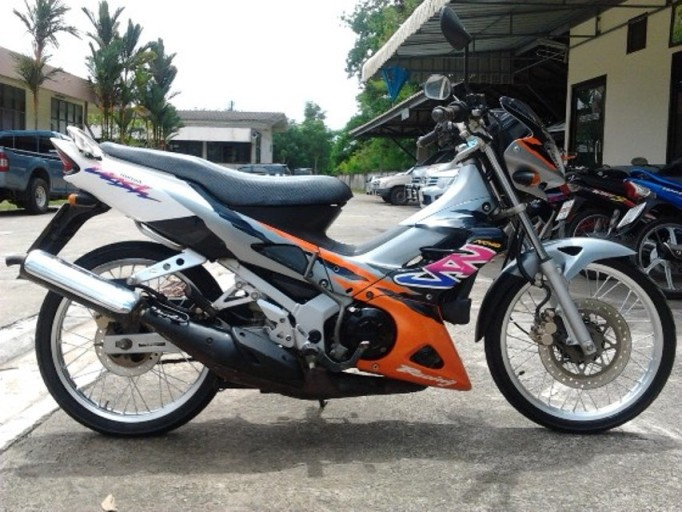motorcycle: (54, 101, 674, 442)
